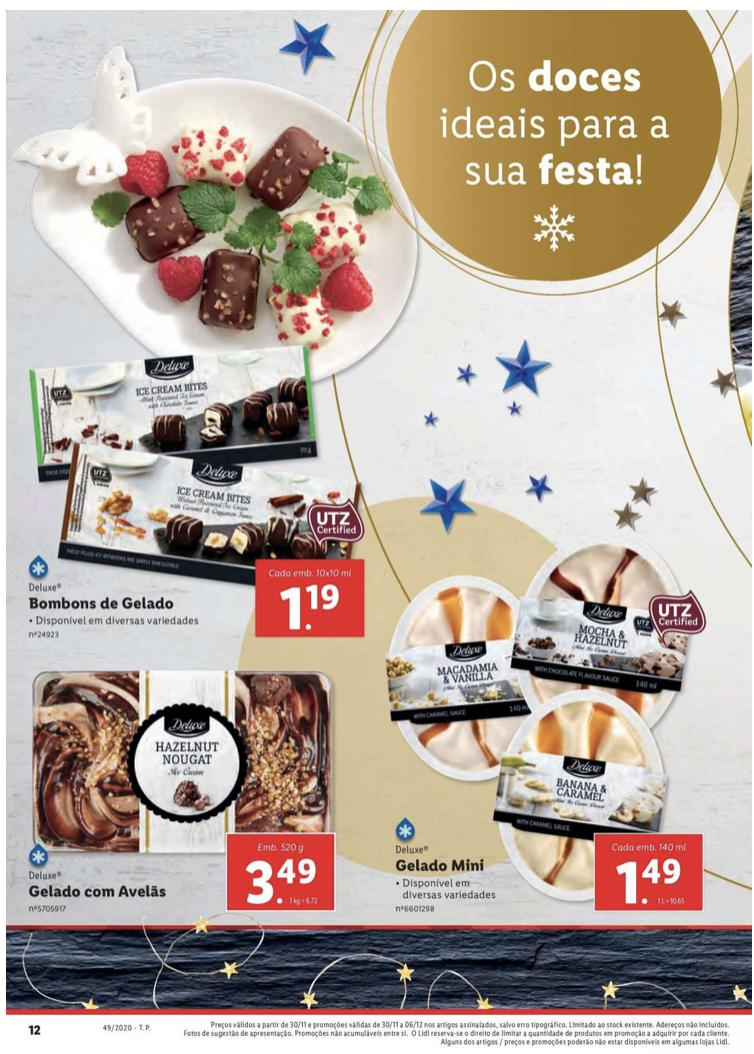name: (19, 875, 173, 907), (22, 591, 182, 616), (391, 855, 490, 879)
price: (604, 853, 701, 911), (234, 853, 332, 910), (277, 581, 349, 637)
product: (382, 523, 715, 926), (22, 355, 370, 644), (17, 658, 382, 926)
